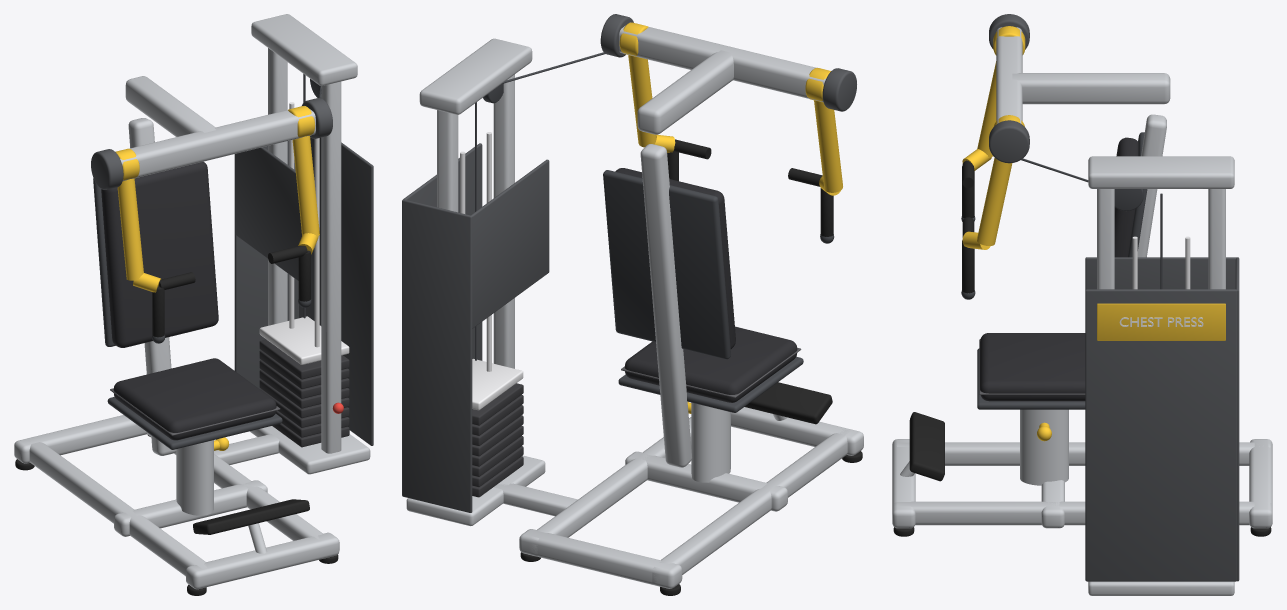
File: ChestPress_Clean.fbx
3 views of the same model, side by side, from view 1: azimuth 30°, elevation 25°; view 2: azimuth 150°, elevation 25°; view 3: azimuth 270°, elevation 25° (orthographic). The views are drawn at different scales.
Parts seen in each view (by area): view 1: Backrest, Shroud_Side_Out, Seat, Tower_Post_1, Shroud_Side_In, Top_Cross, Shroud_Back, Base_Rail_L, Tower_Top, Base_Cross_1, Base_Cross_3, Top_Beam (+29 smaller); view 2: Shroud_Back, Backrest_Shell, Shroud_Side_In, Back_Post, Seat, Base_Rail_L, Top_Cross, Tower_Top, Base_Cross_3, Top_Beam, Tower_Post_1, Base_Rail_R (+19 smaller); view 3: Shroud_Side_Out, Seat, Tower_Top, Top_Beam, Placard, Base_Rail_R, Shroud_Side_In, Seat_Column, Base_Rail_L, Tower_Base, Foot_Rest, Top_Cross (+16 smaller).
Boxes of the visible parts, x1,y1,x2,y2 form: Backrest: (101,161,218,347); Shroud_Side_Out: (299,137,373,445); Seat: (113,358,276,440); Tower_Post_1: (321,81,341,453); Shroud_Side_In: (235,147,301,280); Top_Cross: (120,109,315,180); Shroud_Back: (234,141,298,389); Base_Rail_L: (24,437,212,587); Tower_Top: (251,14,357,85); Base_Cross_1: (186,532,339,589); Base_Cross_3: (14,415,146,463); Top_Beam: (125,76,215,136); Shroud_Back: (402,199,472,512); Backrest_Shell: (603,170,730,359); Shroud_Side_In: (471,159,549,328); Back_Post: (640,144,691,467); Seat: (624,326,797,402); Base_Rail_L: (652,429,851,586); Top_Cross: (619,22,826,102); Tower_Top: (419,38,532,114); Base_Cross_3: (519,529,682,588); Top_Beam: (637,50,733,134); Tower_Post_1: (493,74,514,368); Base_Rail_R: (528,417,691,556); Shroud_Side_Out: (1085,289,1236,581); Seat: (980,333,1085,401); Tower_Top: (1088,156,1234,188); Top_Beam: (1012,73,1170,104); Placard: (1097,303,1225,340); Base_Rail_R: (894,501,1271,525); Shroud_Side_In: (1085,257,1236,290); Seat_Column: (1020,409,1068,485); Base_Rail_L: (896,442,1270,465); Tower_Base: (1088,581,1234,595); Foot_Rest: (909,412,944,481); Top_Cross: (996,27,1022,123).
Size of the model in its own units: 128 by 162 by 130.
